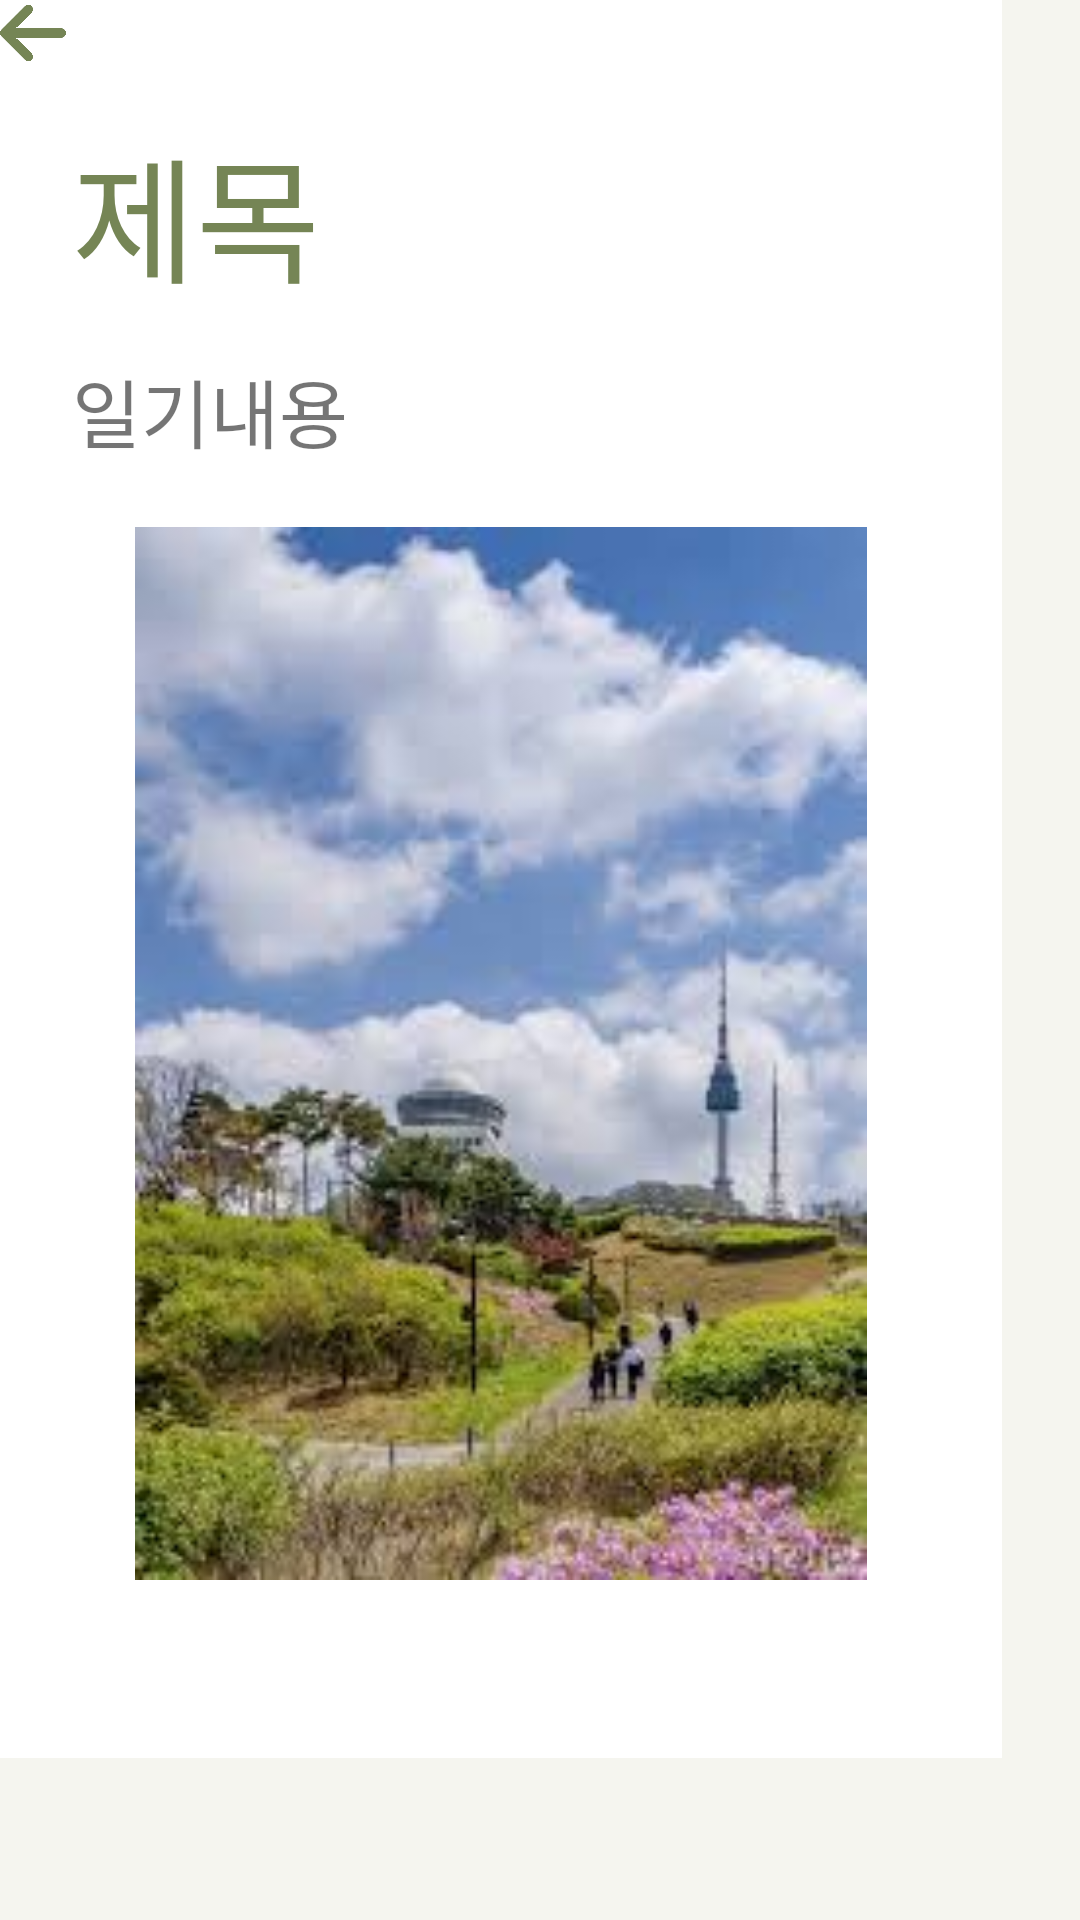

Where icons sit on this 1080×1920 app screen, as (x1, y1, x2, y2):
arrow: (0, 5, 66, 61)
